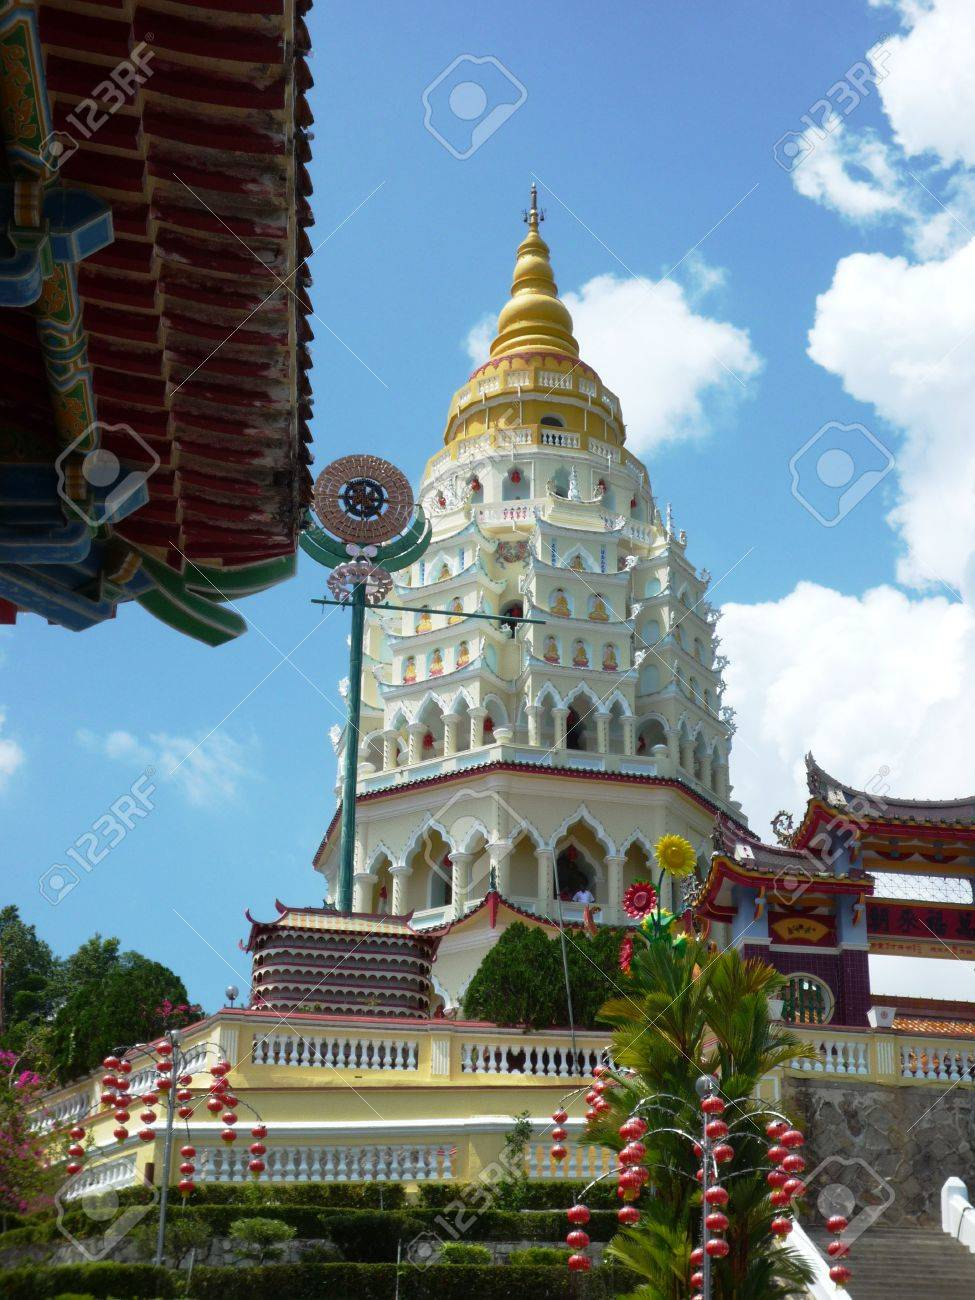Buddhist Temple: (296, 169, 711, 943)
